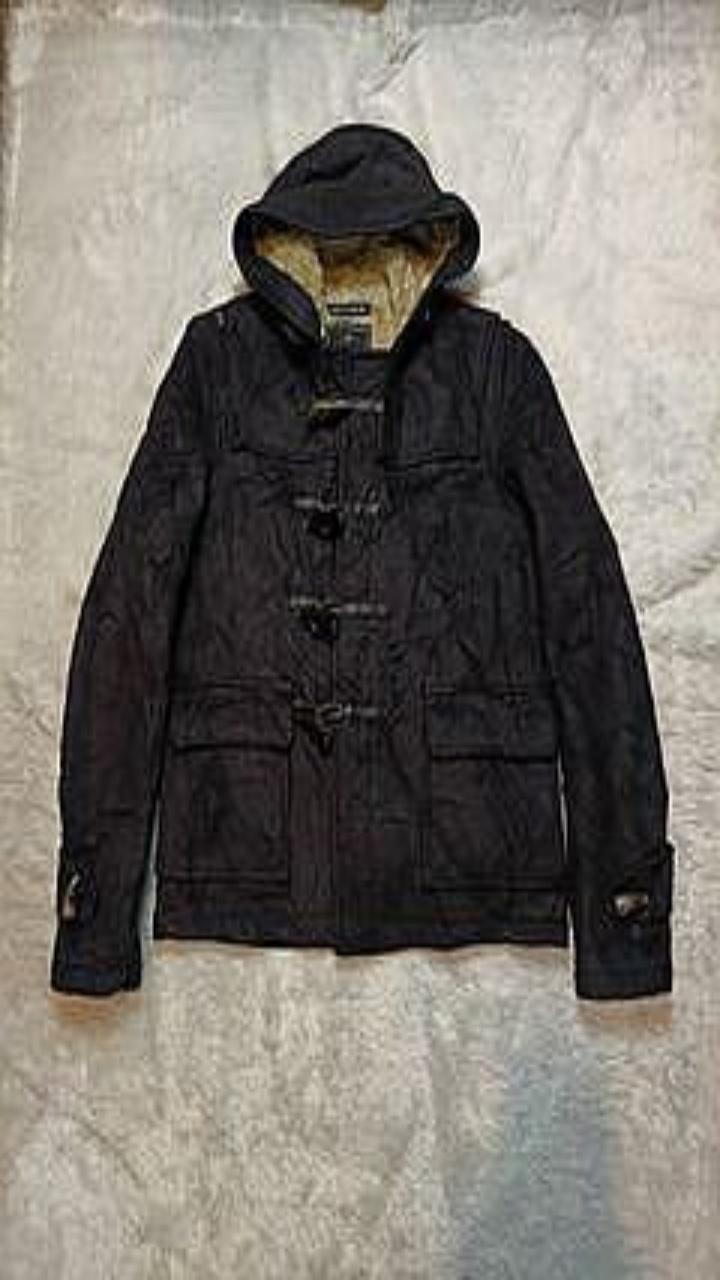Sports_Jacket: (51, 122, 674, 997)
